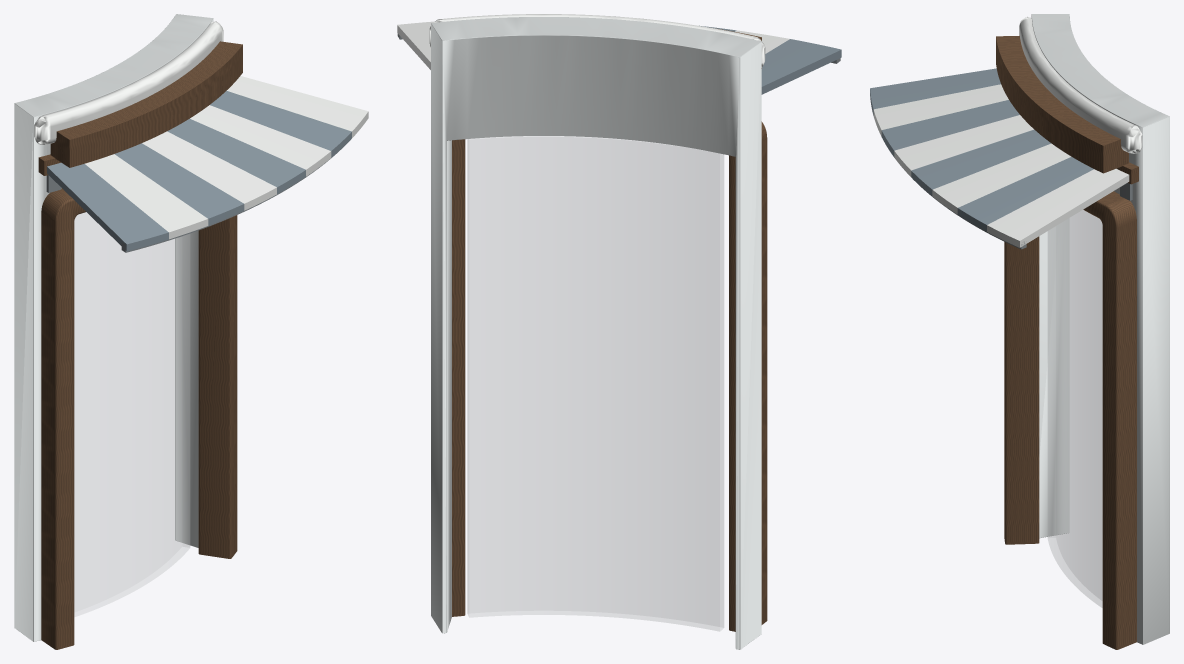
File: ArcShopfront_R2_A45.glb
The picture shows the model from 3 angles, left to right: view 1: azimuth 30°, elevation 25°; view 2: azimuth 150°, elevation 25°; view 3: azimuth 270°, elevation 25°; orthographic projection. The views are drawn at different scales.
Visible parts, largest first — view 1: PBK_Arc_PBK_glass.002, PBK_Continuous_Frame_Modern_Shopfront.003, PBK_substrate.001, PBK_Arc_PBK_signboard.006, PBK_Arc_PBK_awning_stripe.006, PBK_floor_band.001, PBK_Arc_PBK_awning_stripe.007, PBK_Arc_PBK_awning_stripe.011, PBK_Arc_PBK_awning_stripe.012, PBK_Arc_PBK_awning_stripe.013, PBK_Arc_PBK_awning_stripe.014, PBK_Arc_PBK_awning_stripe.015 (+1 smaller); view 2: PBK_Arc_PBK_glass.002, PBK_substrate.001, PBK_Continuous_Frame_Modern_Shopfront.003, PBK_Arc_PBK_awning_stripe.006, PBK_floor_band.001, PBK_Arc_PBK_awning_stripe.022; view 3: PBK_substrate.001, PBK_Continuous_Frame_Modern_Shopfront.003, PBK_Arc_PBK_glass.002, PBK_Arc_PBK_signboard.006, PBK_Arc_PBK_awning_stripe.022, PBK_floor_band.001, PBK_Arc_PBK_awning_stripe.015, PBK_Arc_PBK_awning_stripe.014, PBK_Arc_PBK_awning_stripe.013, PBK_Arc_PBK_awning_stripe.012, PBK_Arc_PBK_awning_stripe.011, PBK_Arc_PBK_awning_stripe.007 (+1 smaller).
Part boxes in pixels (box(x1,y1,x2,y2)): PBK_Arc_PBK_glass.002: box(74, 212, 189, 616); PBK_Continuous_Frame_Modern_Shopfront.003: box(41, 188, 237, 649); PBK_substrate.001: box(14, 14, 213, 641); PBK_Arc_PBK_signboard.006: box(50, 41, 242, 167); PBK_Arc_PBK_awning_stripe.006: box(47, 162, 168, 251); PBK_floor_band.001: box(34, 21, 223, 145); PBK_Arc_PBK_awning_stripe.007: box(85, 154, 208, 239); PBK_Arc_PBK_awning_stripe.011: box(114, 143, 244, 225); PBK_Arc_PBK_awning_stripe.012: box(142, 131, 276, 210); PBK_Arc_PBK_awning_stripe.013: box(167, 118, 305, 194); PBK_Arc_PBK_awning_stripe.014: box(190, 105, 331, 176); PBK_Arc_PBK_awning_stripe.015: box(210, 90, 351, 157); PBK_Arc_PBK_glass.002: box(467, 136, 723, 631); PBK_substrate.001: box(431, 17, 761, 649); PBK_Continuous_Frame_Modern_Shopfront.003: box(452, 121, 767, 631); PBK_Arc_PBK_awning_stripe.006: box(761, 39, 841, 94); PBK_floor_band.001: box(429, 14, 765, 67); PBK_Arc_PBK_awning_stripe.022: box(397, 21, 434, 69); PBK_substrate.001: box(1031, 14, 1169, 644); PBK_Continuous_Frame_Modern_Shopfront.003: box(1004, 191, 1136, 649); PBK_Arc_PBK_glass.002: box(1048, 210, 1102, 607); PBK_Arc_PBK_signboard.006: box(996, 35, 1128, 173); PBK_Arc_PBK_awning_stripe.022: box(987, 168, 1129, 247); PBK_floor_band.001: box(1019, 17, 1142, 153); PBK_Arc_PBK_awning_stripe.015: box(957, 157, 1093, 231); PBK_Arc_PBK_awning_stripe.014: box(932, 143, 1071, 214); PBK_Arc_PBK_awning_stripe.013: box(911, 129, 1050, 195); PBK_Arc_PBK_awning_stripe.012: box(894, 115, 1033, 176); PBK_Arc_PBK_awning_stripe.011: box(881, 100, 1019, 157); PBK_Arc_PBK_awning_stripe.007: box(873, 84, 1008, 136).
Size of the model in its own units: 1.97 by 3 by 1.58.
Materials: 7 (2 with a texture image).
